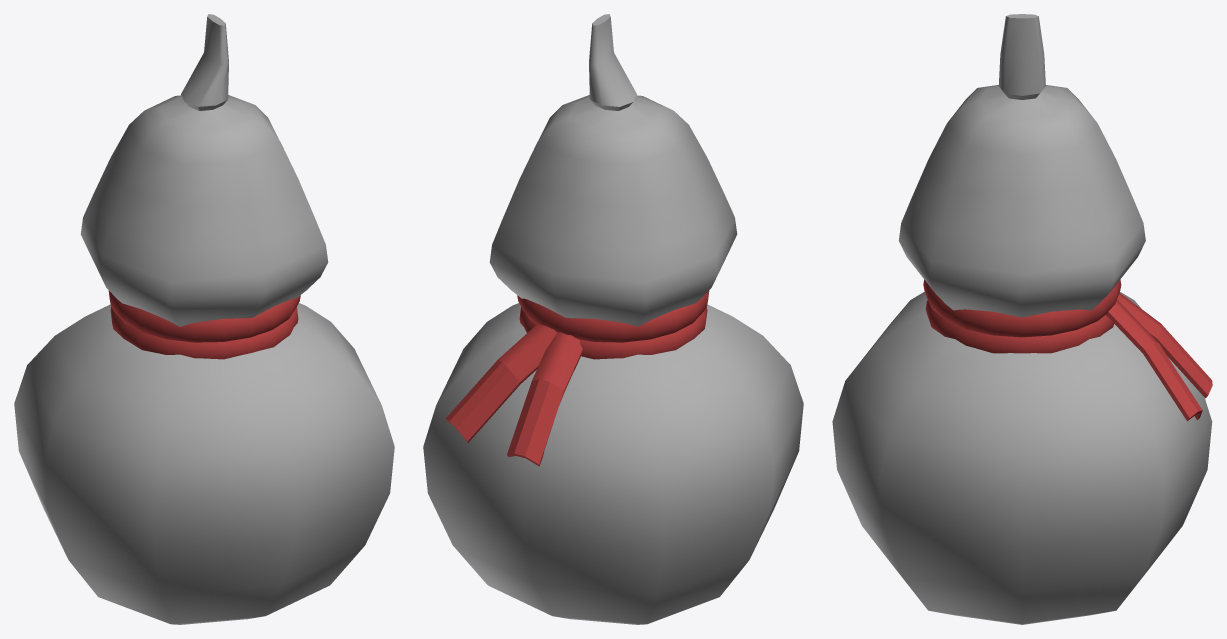
3 views of the same model, side by side, from view 1: azimuth 30°, elevation 25°; view 2: azimuth 150°, elevation 25°; view 3: azimuth 270°, elevation 25° (orthographic). The views are drawn at different scales.
Parts seen in each view (by area): view 1: pCube1, Rope; view 2: pCube1, Rope; view 3: pCube1, Rope.
Part boxes in pixels (x1,y1,x2,y2): pCube1: (14,14,394,624); Rope: (108,290,300,359); pCube1: (423,14,803,624); Rope: (445,290,709,466); pCube1: (832,14,1212,624); Rope: (923,279,1212,421).
Bounding box in the file's own units: 24.03 × 40.39 × 24.05.
